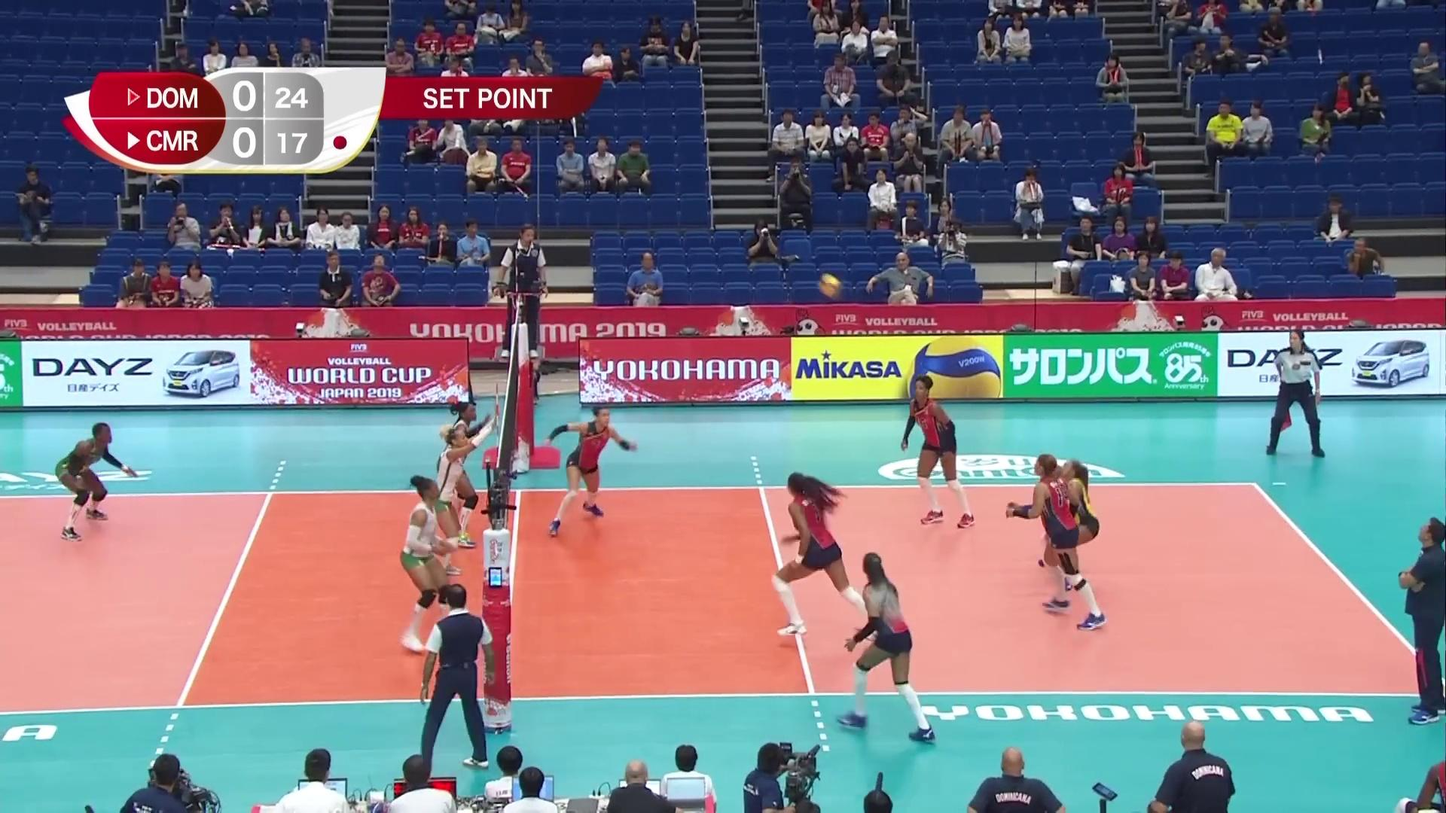player: (837, 553, 942, 736), (766, 475, 872, 643), (1017, 456, 1104, 632), (897, 377, 977, 528), (552, 406, 639, 533), (399, 478, 461, 656), (53, 423, 147, 537), (431, 418, 488, 576), (1043, 460, 1102, 601), (433, 401, 486, 551)
refree: (420, 594, 497, 770), (1265, 327, 1327, 459), (498, 223, 549, 360)
